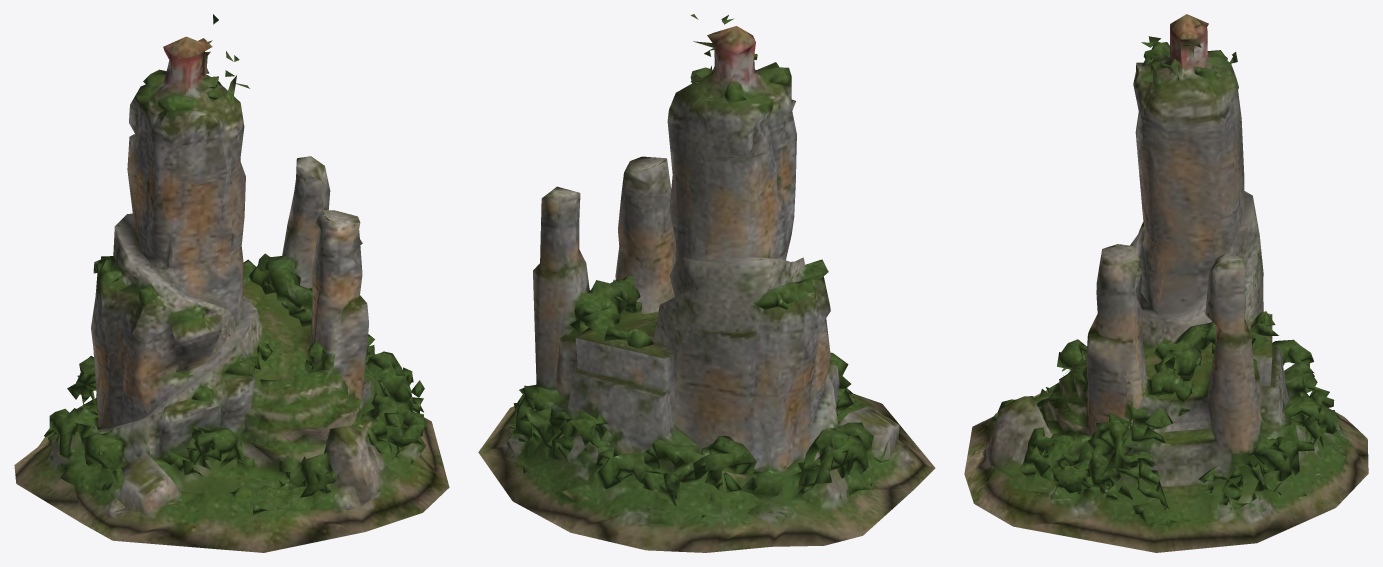
The model's file is av_pagoda_xfar.glb.
3 views of the same model, side by side, from view 1: azimuth 30°, elevation 25°; view 2: azimuth 150°, elevation 25°; view 3: azimuth 270°, elevation 25° (orthographic). The views are drawn at different scales.
Visible parts, largest first — view 1: av_pagoda; view 2: av_pagoda; view 3: av_pagoda.
Boxes of the visible parts, x1,y1,x2,y2 form: av_pagoda: (14, 14, 449, 552); av_pagoda: (478, 14, 935, 552); av_pagoda: (964, 14, 1368, 552).
Bounding box in the file's own units: 1.67 × 1.87 × 1.57.
Materials: 1 (1 with a texture image).
